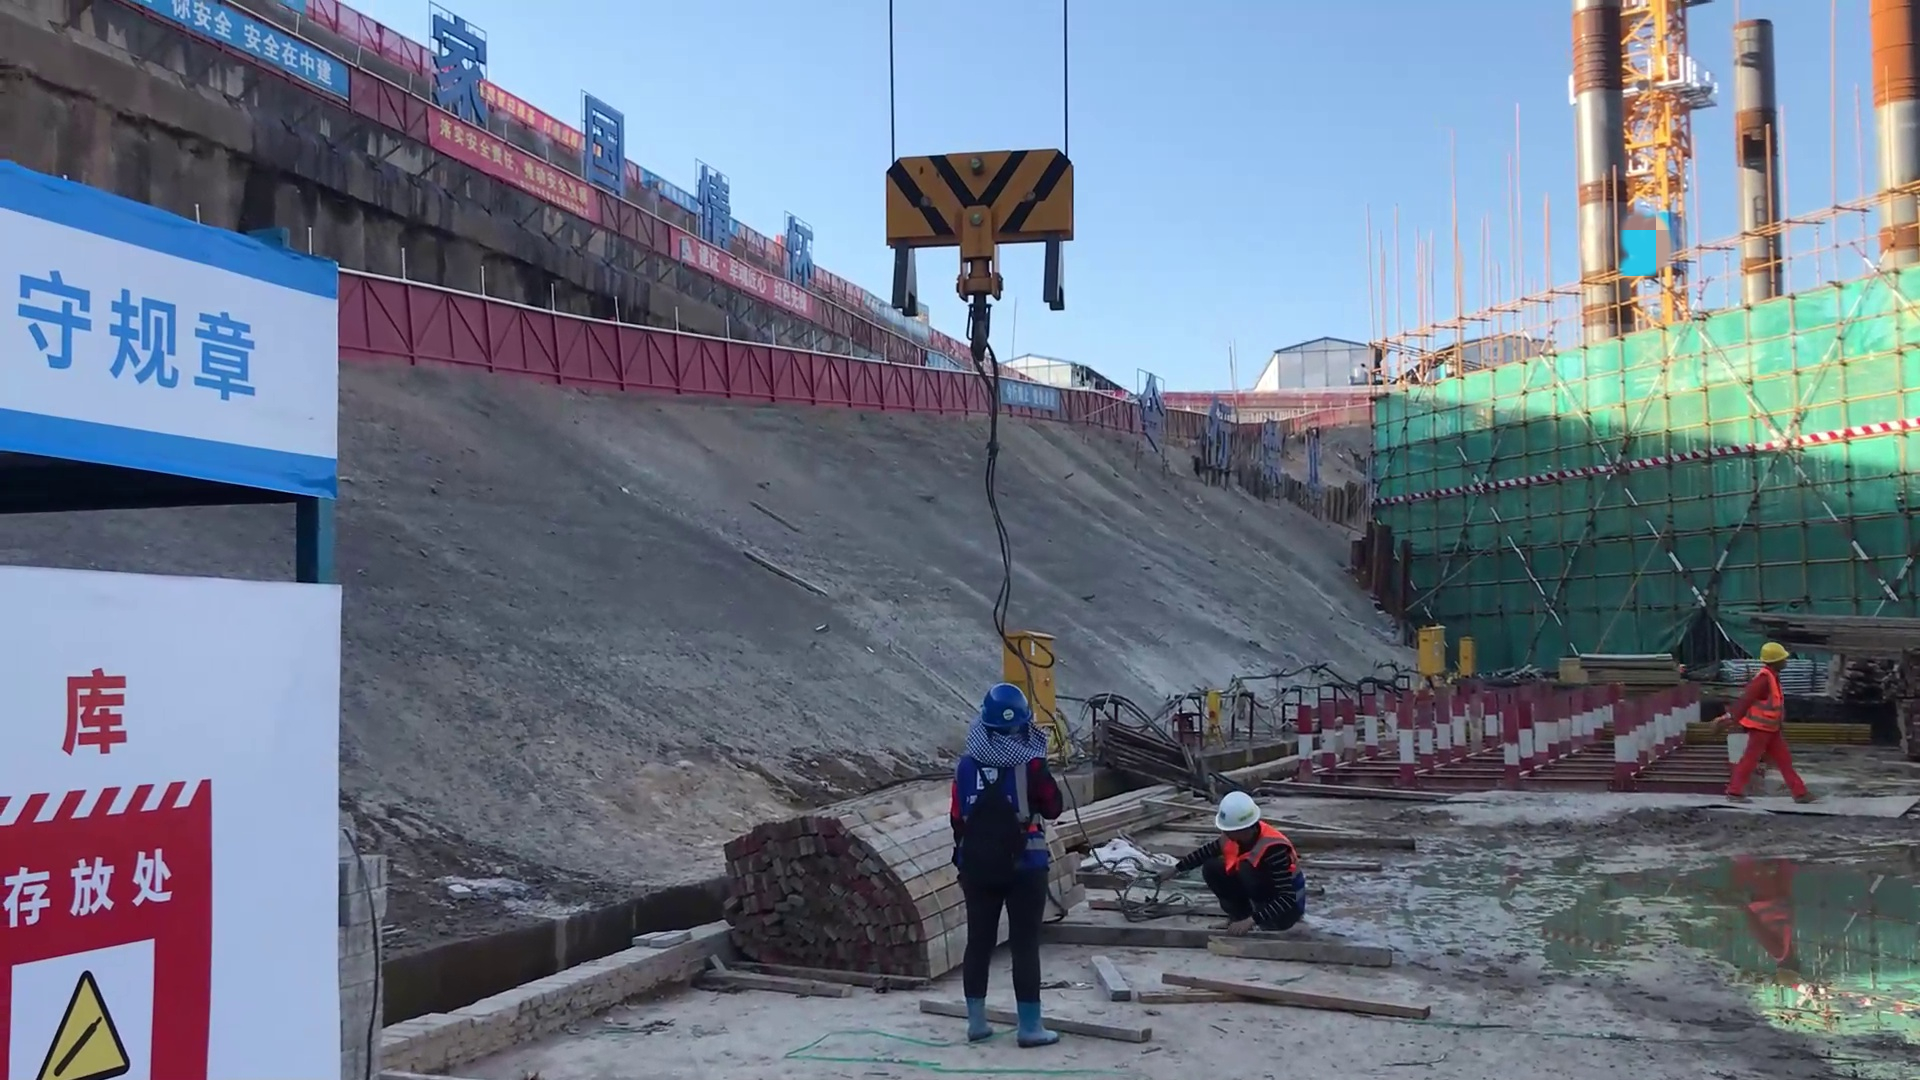ebox: (1001, 622, 1071, 709), (1416, 626, 1449, 675), (1452, 633, 1475, 680)
fence: (338, 272, 737, 404), (736, 344, 1158, 434)
helmet: (967, 684, 1040, 736), (1204, 788, 1261, 836), (1757, 645, 1787, 671)
hook: (866, 135, 1088, 312)
person: (948, 681, 1064, 1050), (1148, 785, 1306, 934), (1710, 638, 1818, 806)
slogan: (1, 242, 263, 456), (1, 885, 177, 1079), (144, 1, 367, 118), (419, 127, 604, 246)
vest: (1211, 835, 1299, 894), (1730, 670, 1797, 739)
wood: (714, 768, 943, 982), (1751, 601, 1920, 670)
